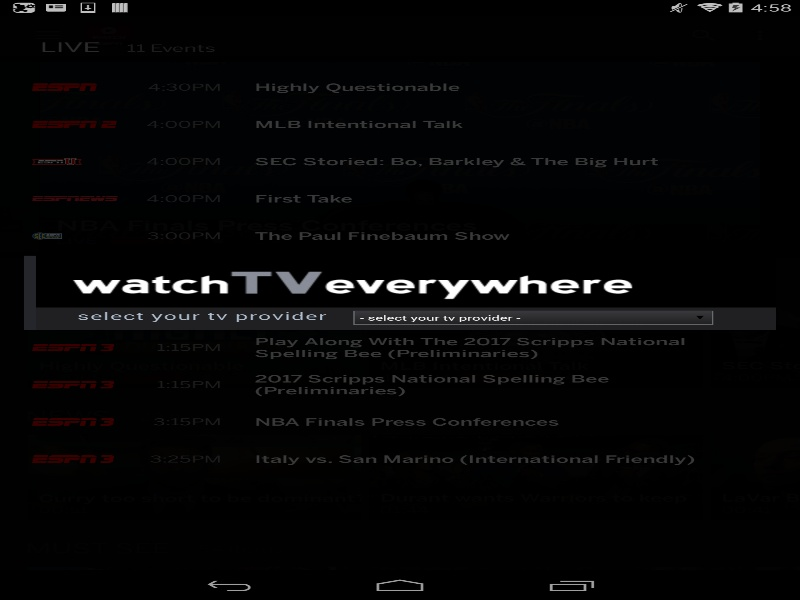Button: (353, 122, 713, 137)
